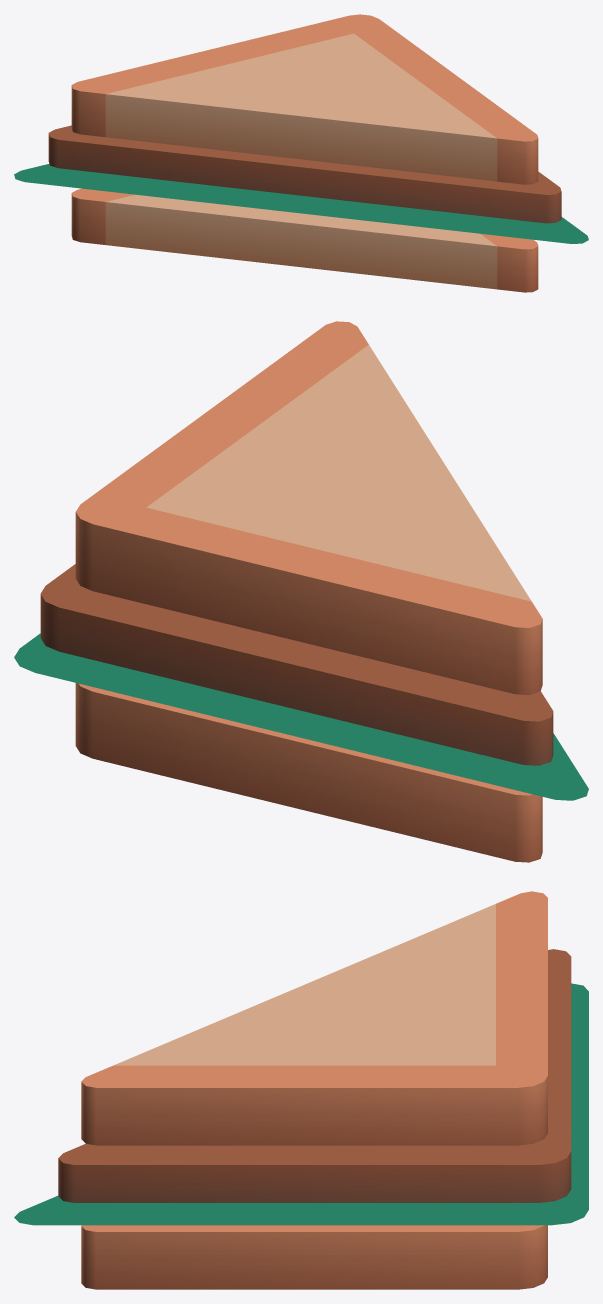
File: sandwich.glb
3 renders of one model, top to bottom at view 1: azimuth 30°, elevation 25°; view 2: azimuth 150°, elevation 25°; view 3: azimuth 270°, elevation 25°, orthographic. The views are drawn at different scales.
Visible parts, largest first — view 1: lettuce; view 2: lettuce; view 3: lettuce.
Boxes of the visible parts, <box> form: lettuce: <box>14,14,588,292</box>; lettuce: <box>14,321,588,862</box>; lettuce: <box>14,891,588,1289</box>.
Size of the model in its own units: 0.4323 by 0.168 by 0.4339.
1 material, 1 textured.
